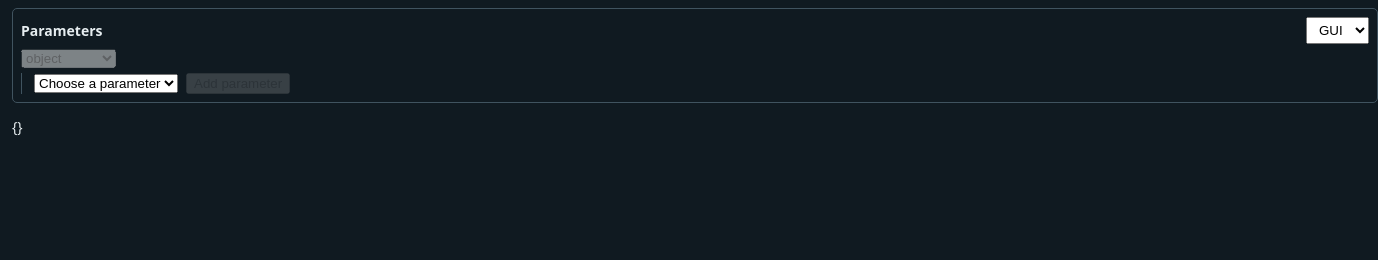
offers declared optional parameters with their defaults and descriptions
Select "workers · integer" in the dropdown named "$ available parameters" at coordinates (106, 84), box [34,74,178,93]
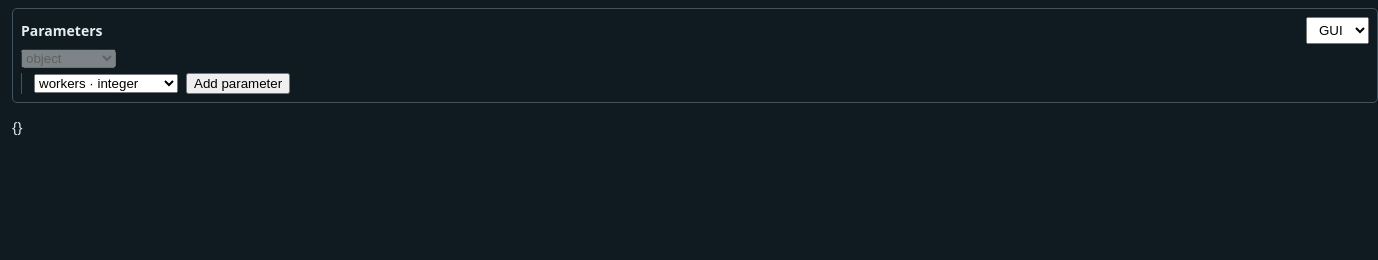
Click the button "Add parameter" at coordinates (238, 84), box [186,73,290,94]
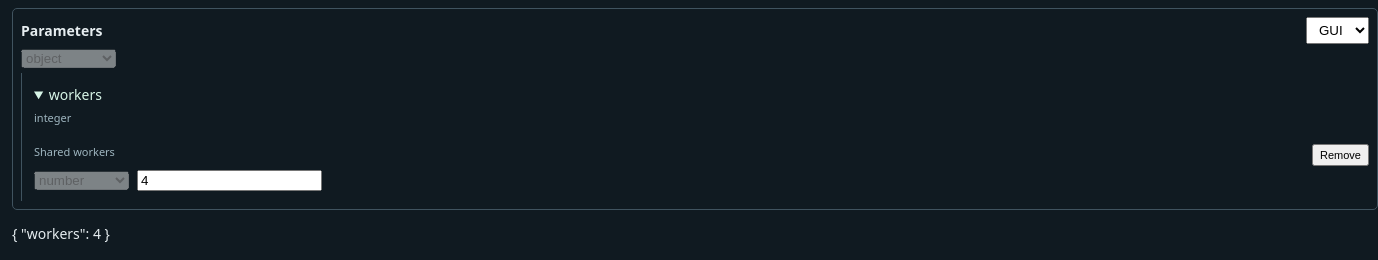
expect the text "Shared workers" is shown: met, box [34,144,115,159]
